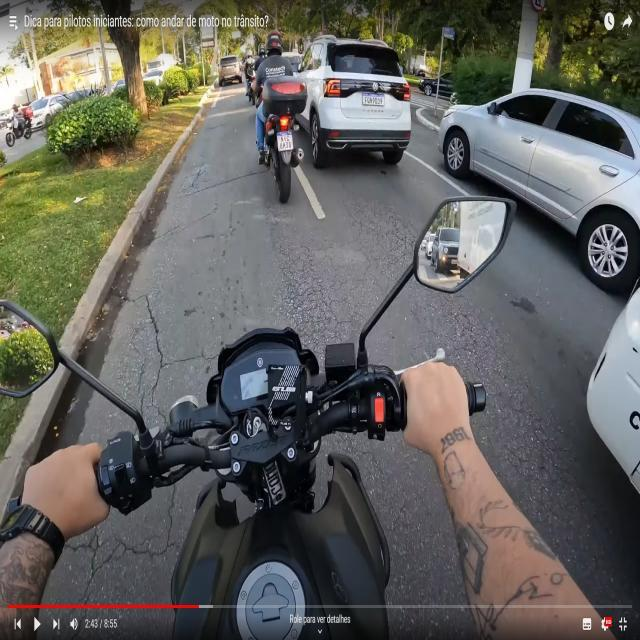Placa_mercosul_carro: (362, 92, 385, 106)
placa_moto: (277, 132, 293, 151)
